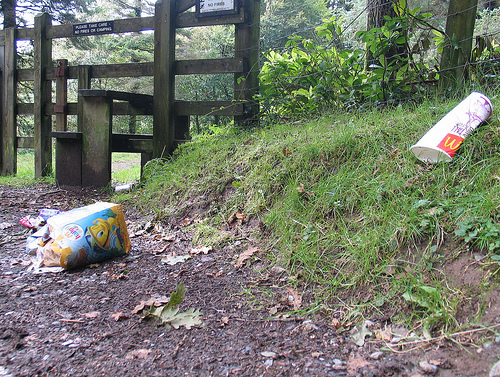litter: (17, 199, 129, 269), (410, 88, 491, 163)
